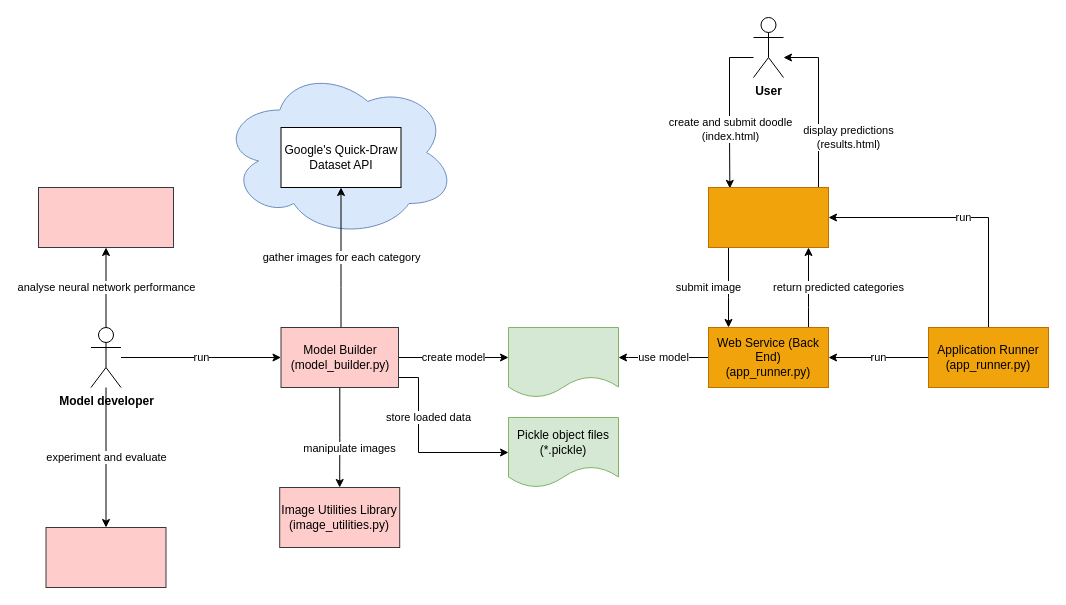
Image size: 1066x605. Some labels were removed from this diagram. Each missing label, with the centre of its shape:
"Analysis Utilites Library (analysis_utilities.py)" goes at point 106,217.
"Jupyter Notebook (Evaluation.ipynb)" goes at point 105,557.
"Neural Network Model (stored_model.pth)" goes at point 563,362.
"Web Application (Front End) (index.html, results.html. draw.js)" goes at point 768,217.
